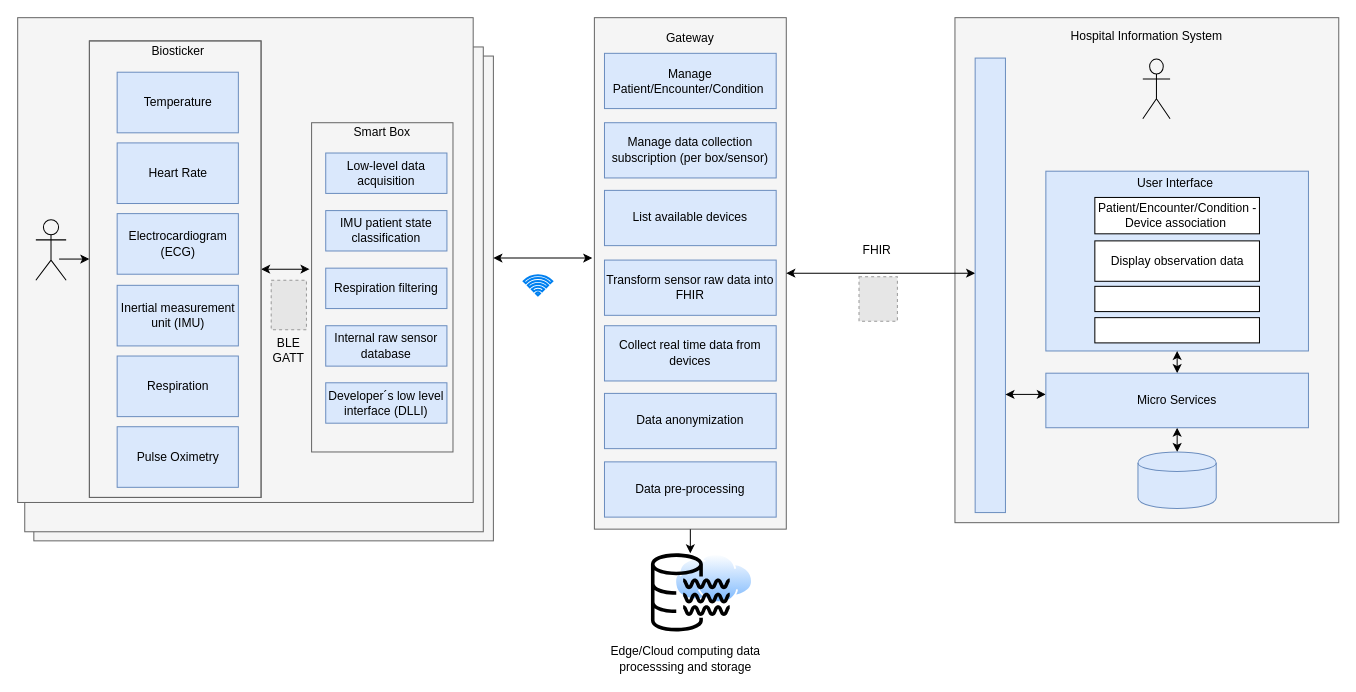
This 1356x692 diagram has some shape labels left out. Grey dashed boxes stand in for pictures. The shapes that lost their labels are listed below. From the top down, each one's centre as x and y in pixels, then its label:
(1156,88): Health Professional
(50,249): Patient
(537,285): MQTT
(989,285): Interoperability
(1176,298): Ask real time data
(1176,330): Subscribe sensor data
(1176,480): Data
